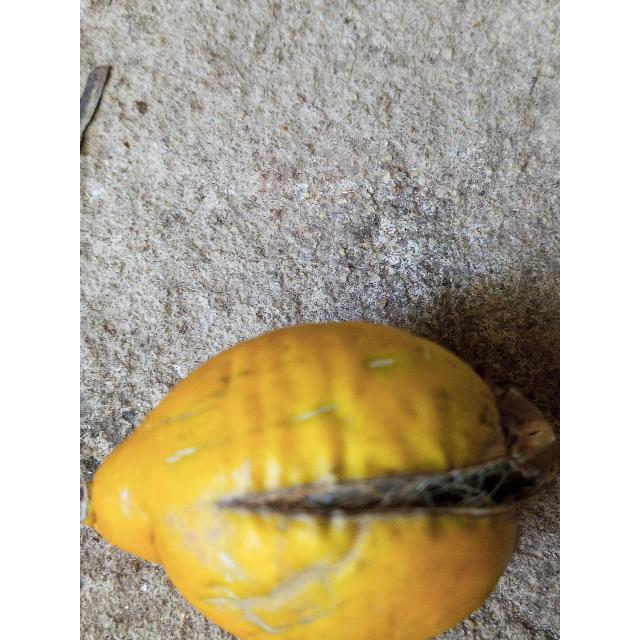damaged: (85, 322, 556, 640)
